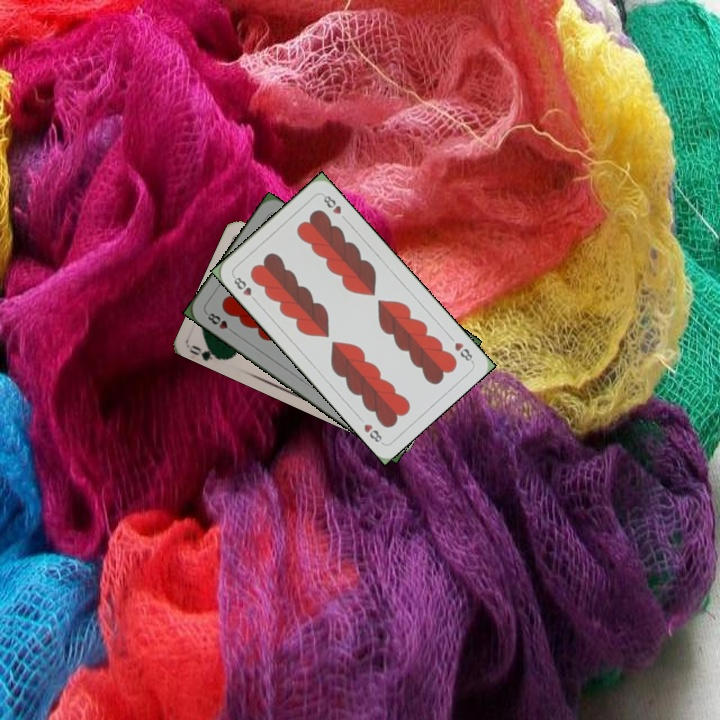GO: (186, 340, 227, 363)
H8: (229, 271, 260, 305), (202, 308, 237, 336), (450, 338, 476, 365)
